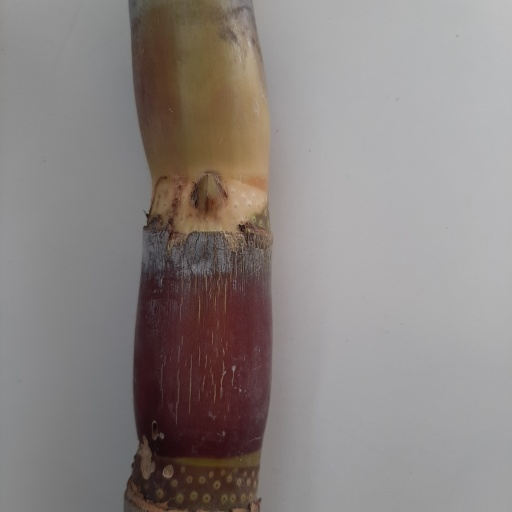Bud: (190, 171, 229, 215)
